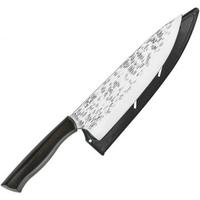knife: (4, 9, 199, 194)
